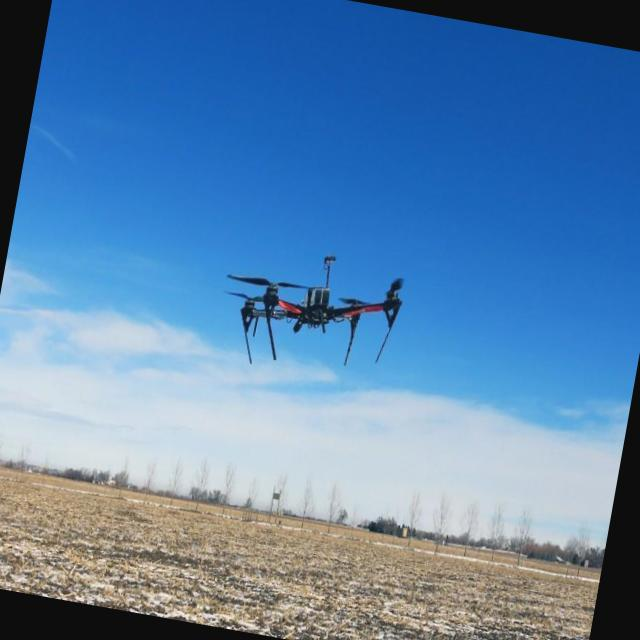drone: (212, 233, 410, 392)
